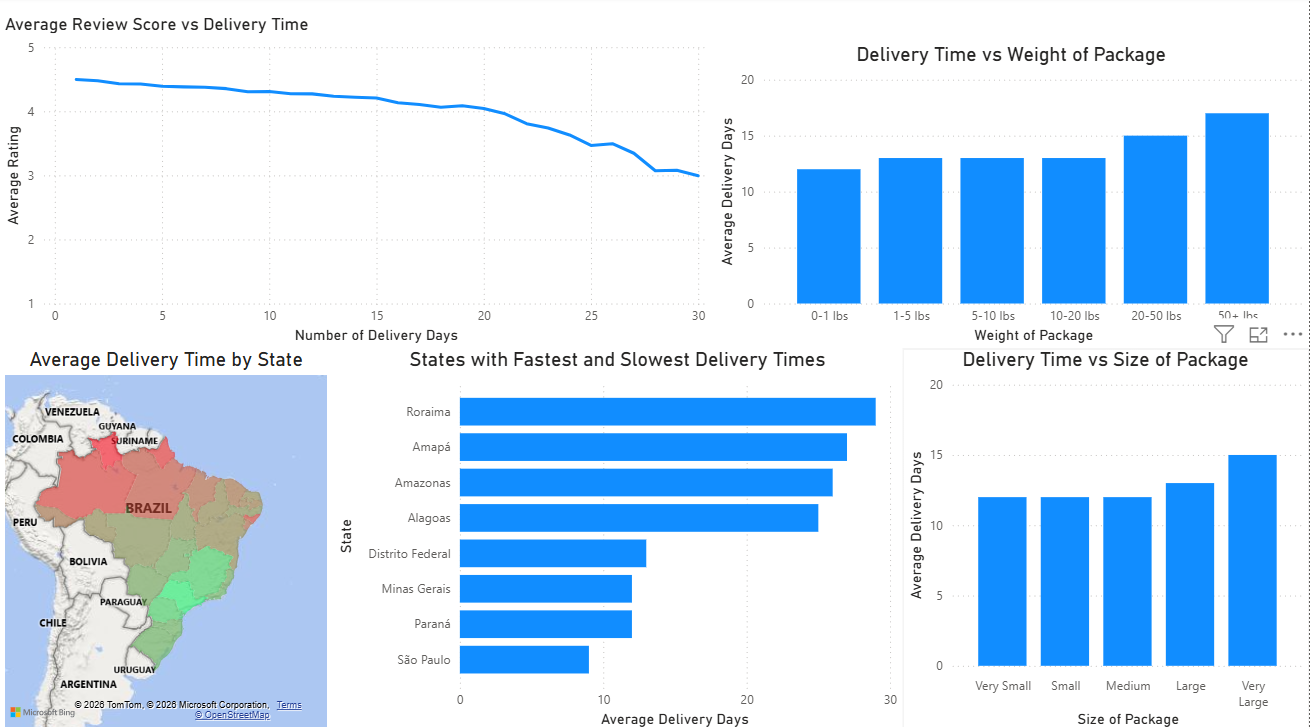

The dashboard page shown, as its layout file describes it:
{"tool":"powerbi","page":{"name":"Logistics","canvas":[1280,720],"ordinal":1},"visuals":[{"type":"lineChart","title":"Average Review Score vs Delivery Time","fields":{"Category":["analysis delivery_time_vs_rating.delivery_days"],"Y":["Sum(analysis delivery_time_vs_rating.avg_rating)"]},"box":[0,17.1,698.2,327.7],"z":1},{"type":"clusteredColumnChart","title":"Delivery Time vs Weight of Package","fields":{"Category":["analysis delivery_time_by_weight.weight_bucket"],"Y":["Sum(analysis delivery_time_by_weight.avg_delivery_days)"]},"box":[698.2,46.5,582.1,298.4],"z":2},{"type":"columnChart","title":"Delivery Time vs Size of Package","fields":{"Y":["Sum(analysis delivery_time_by_volume_bucket.avg_delivery_days)"],"Category":["analysis delivery_time_by_volume_bucket.volume_bucket"]},"box":[882.9,344.8,397.4,375.4],"z":3},{"type":"clusteredBarChart","title":"States with Fastest and Slowest Delivery Times","fields":{"Category":["analysis delivery_time_by_state.state_name"],"Y":["Sum(analysis delivery_time_by_state.avg_delivery_days)"]},"box":[325.3,344.8,557.6,375.4],"z":6},{"type":"filledMap","title":"Average Delivery Time by State","fields":{"Category":["analysis delivery_time_by_state.state_name"]},"box":[0,344.8,325.3,375.4],"z":7}]}

Visuals, with their boxes in screenshot pixels (x1, y1, x2, y2), scaled from the page's 1280x720 canvas onto the 1310x727 screenshot:
"Average Review Score vs Delivery Time" lineChart: bbox=[0, 17, 715, 348]
"Delivery Time vs Weight of Package" clusteredColumnChart: bbox=[715, 47, 1309, 348]
"Delivery Time vs Size of Package" columnChart: bbox=[904, 348, 1309, 726]
"States with Fastest and Slowest Delivery Times" clusteredBarChart: bbox=[333, 348, 904, 726]
"Average Delivery Time by State" filledMap: bbox=[0, 348, 333, 726]
